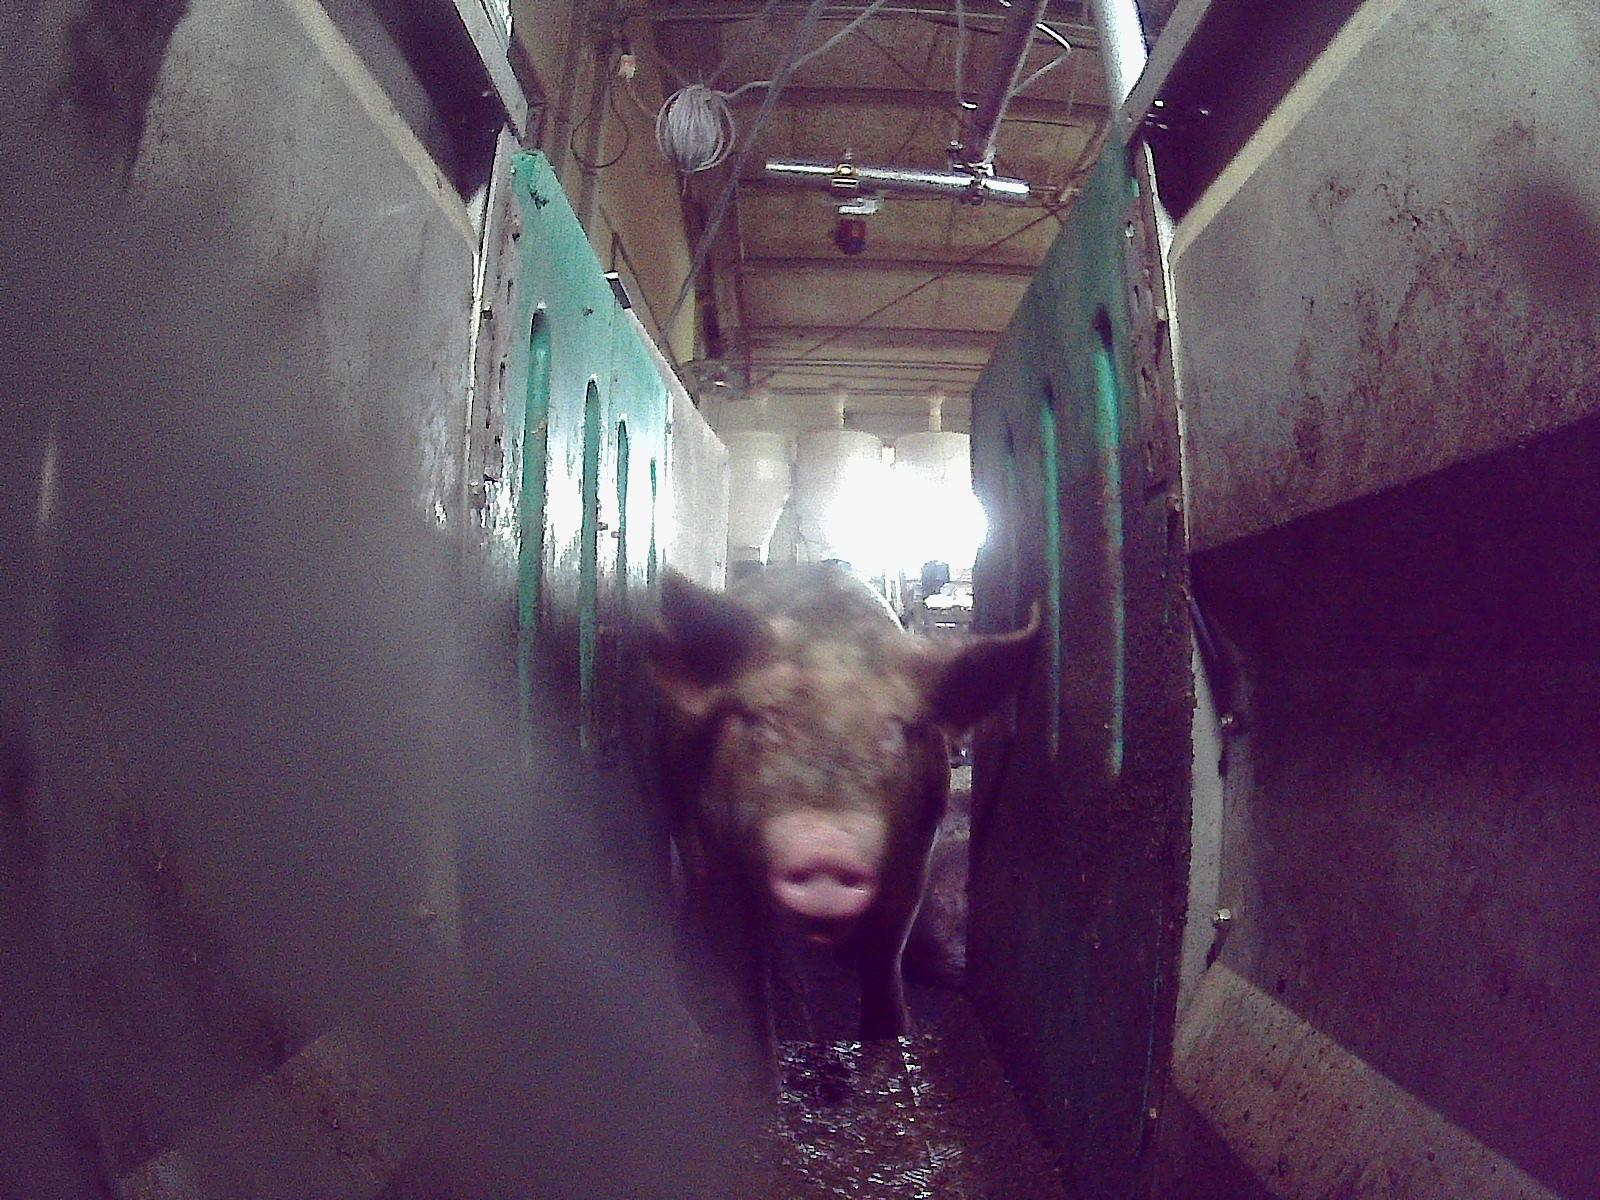Face: (716, 633, 923, 940)
